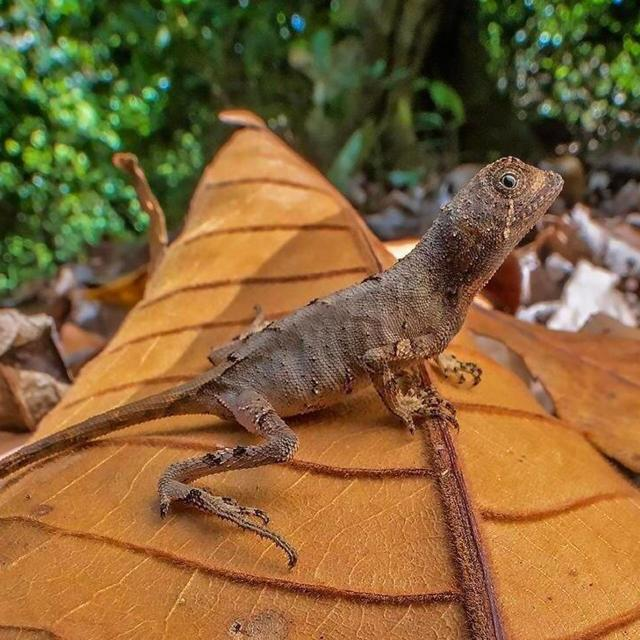Lizard: (37, 150, 572, 556)
